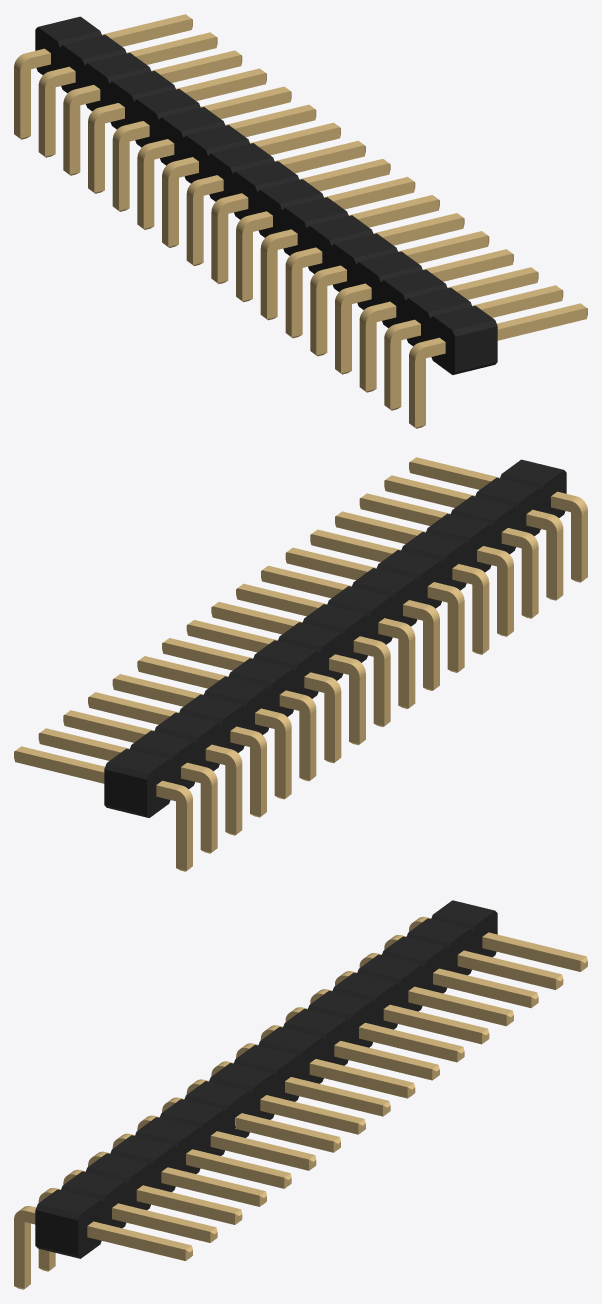
The model's file is kc-pinheader_1x17_p2.54mm_horizontal.glb.
The picture shows the model from 3 angles, top to bottom: view 1: azimuth 30°, elevation 25°; view 2: azimuth 150°, elevation 25°; view 3: azimuth 330°, elevation 25°; orthographic projection.
Visible parts, largest first — view 1: 0.75_0.5_0.25_0.9, 0_0_0_0; view 2: 0.75_0.5_0.25_0.9, 0_0_0_0; view 3: 0.75_0.5_0.25_0.9, 0_0_0_0.
Part boxes in pixels (box(x1,y1,x2,y2)): 0.75_0.5_0.25_0.9: box(14, 14, 587, 428); 0_0_0_0: box(35, 16, 497, 374); 0.75_0.5_0.25_0.9: box(14, 457, 587, 871); 0_0_0_0: box(104, 459, 566, 817); 0.75_0.5_0.25_0.9: box(14, 916, 587, 1289); 0_0_0_0: box(35, 900, 497, 1258).
Bounding box in the file's own units: 1.04 × 0.5541 × 4.32.
